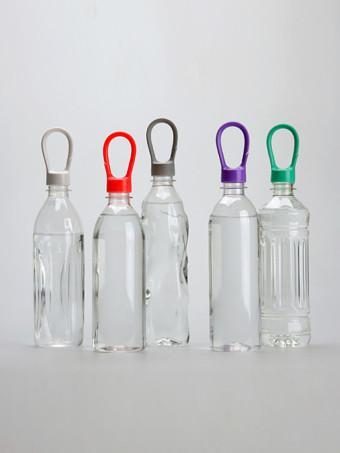bottle: (26, 127, 92, 349), (257, 125, 315, 349), (204, 124, 260, 352), (93, 131, 146, 351), (140, 119, 190, 346)
